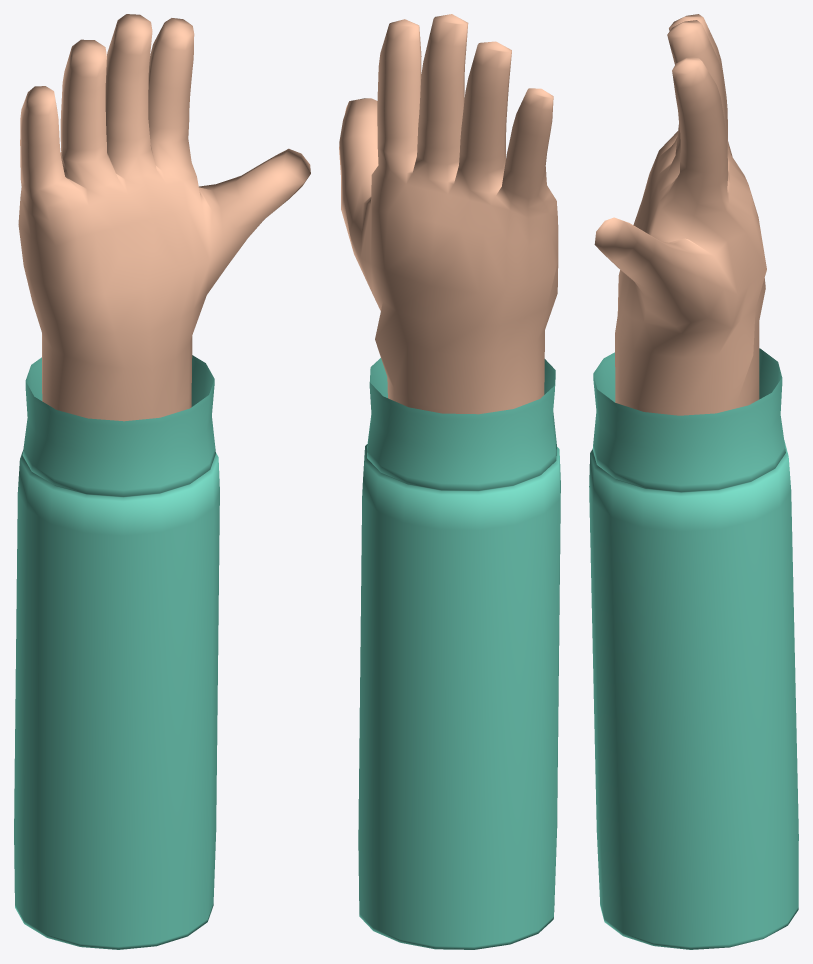
File: hand.glb
3 views of the same model, side by side, from view 1: azimuth 30°, elevation 25°; view 2: azimuth 150°, elevation 25°; view 3: azimuth 270°, elevation 25° (orthographic).
Visible parts, largest first — view 1: Cube.007, Cube.002; view 2: Cube.007, Cube.002; view 3: Cube.007, Cube.002.
Boxes of the visible parts, left/top/right/bottom form: Cube.007: left=14, top=355, right=219, bottom=949; Cube.002: left=18, top=14, right=310, bottom=421; Cube.007: left=358, top=358, right=560, bottom=949; Cube.002: left=339, top=14, right=558, bottom=414; Cube.007: left=589, top=348, right=798, bottom=949; Cube.002: left=594, top=14, right=766, bottom=415.
Bounding box in the file's own units: 5.18 × 17.92 × 3.81.
